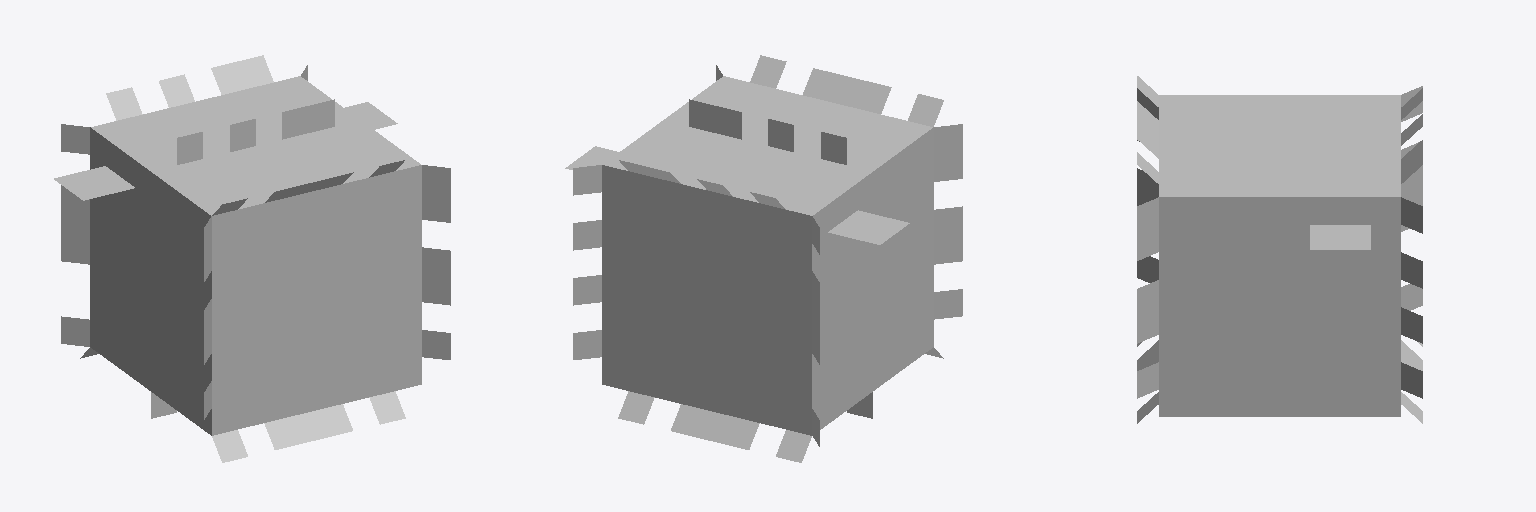
The model's file is pufferfish.obj.
The picture shows the model from 3 angles: view 1: azimuth 30°, elevation 25°; view 2: azimuth 150°, elevation 25°; view 3: azimuth 270°, elevation 25°; orthographic projection.
Parts seen in each view (by area): view 1: cube; view 2: cube; view 3: cube.
Part boxes in pixels (x1,y1,x2,y2): cube: (54, 55, 450, 462); cube: (565, 55, 962, 462); cube: (1137, 76, 1422, 423).
Bounding box in the file's own units: 0.75 × 0.625 × 0.5884.